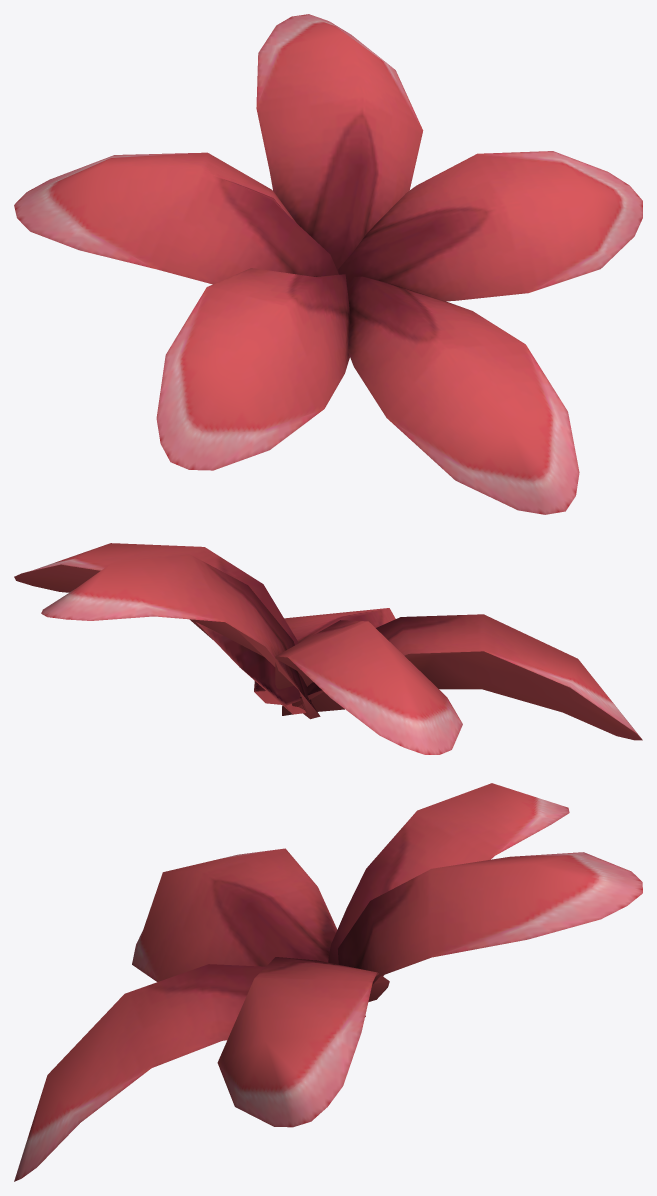
File: FlowerRed.fbx
3 renders of one model, top to bottom at view 1: azimuth 30°, elevation 25°; view 2: azimuth 150°, elevation 25°; view 3: azimuth 270°, elevation 25°, orthographic. The views are drawn at different scales.
Parts seen in each view (by area): view 1: FlowerRed; view 2: FlowerRed; view 3: FlowerRed.
Part boxes in pixels (x1=…): FlowerRed: x1=14, y1=14, x2=642, y2=514; FlowerRed: x1=14, y1=543, x2=642, y2=754; FlowerRed: x1=14, y1=783, x2=642, y2=1181.
Bounding box in the file's own units: 57.57 × 30.22 × 52.57.
Materials: 1 (1 with a texture image).
